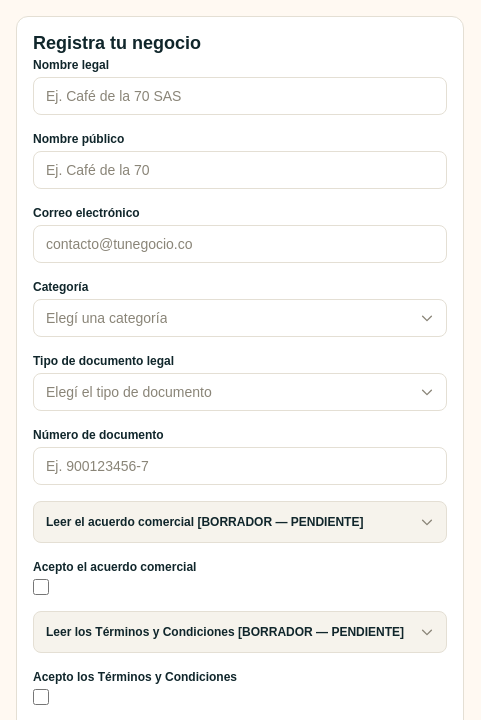
RegisterForm › commercial agreement acceptance (issue #23) › keeps the placeholder agreement body hidden until the <summary> disclosure is expanded
The width and height of the screenshot is (481, 720).
What coordinates should you click on to do the following:
click the heading "Leer el acuerdo comercial [BORRADOR — PENDIENTE]"
I would click on:
 (240, 522)
Its box is [46, 514, 434, 530].
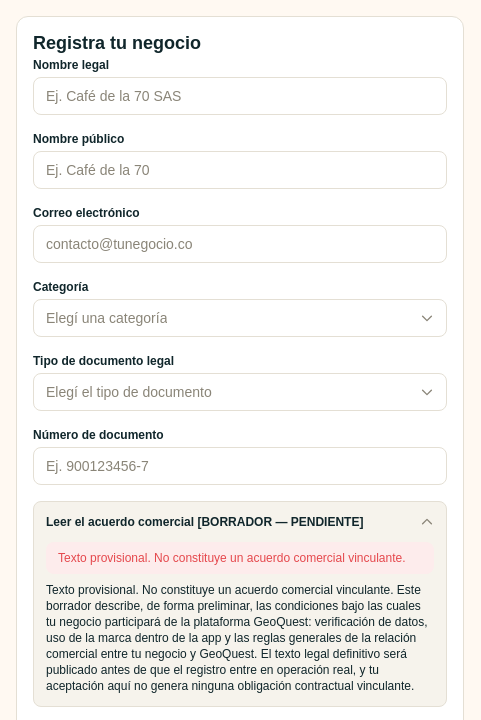
expect the text "Este borrador describe" is shown: met, box [46, 583, 428, 693]
